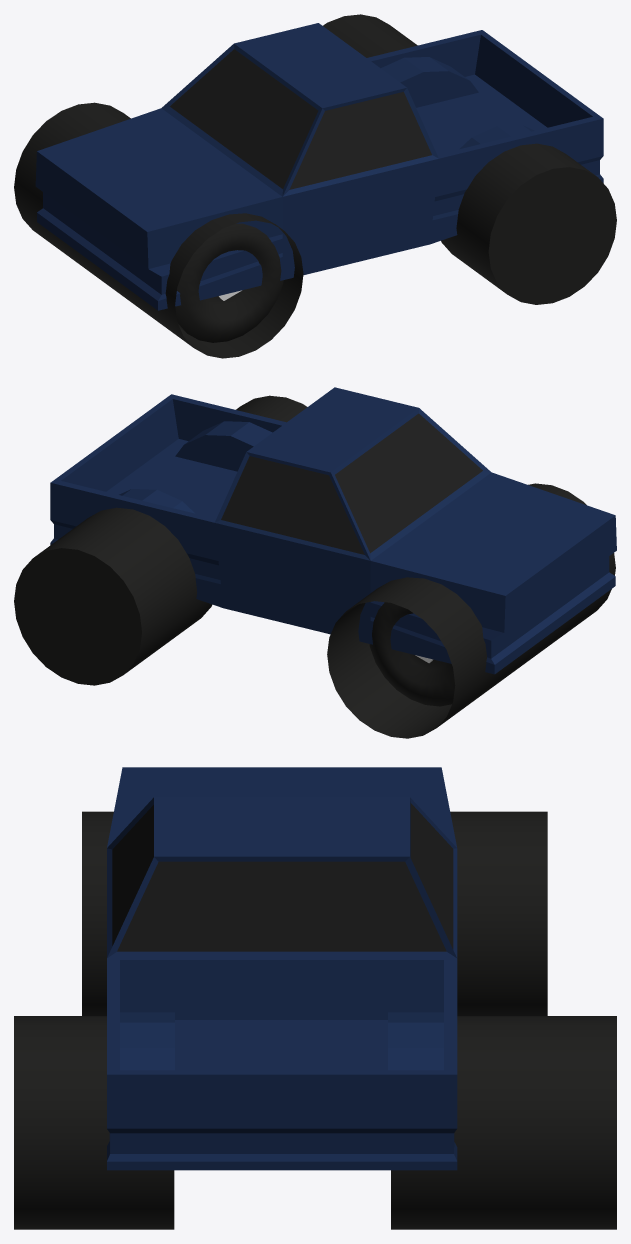
Rendered from car.glb.
The picture shows the model from 3 angles, top to bottom: view 1: azimuth 30°, elevation 25°; view 2: azimuth 150°, elevation 25°; view 3: azimuth 270°, elevation 25°; orthographic projection. The views are drawn at different scales.
Parts seen in each view (by area): view 1: Cube.001, Torus.007, Torus.006, Torus.004, Cylinder.004, Cylinder.005; view 2: Cube.001, Torus.007, Torus.006, Torus.005, Cylinder.005, Cylinder.004; view 3: Cube.001, Torus.007, Torus.006, Cylinder.004, Cylinder.005.
Part boxes in pixels (<box>): Cube.001: <box>35,23,603,310</box>; Torus.007: <box>323,14,616,304</box>; Torus.006: <box>14,102,303,358</box>; Torus.004: <box>175,223,283,342</box>; Cylinder.004: <box>381,57,478,107</box>; Cylinder.005: <box>459,125,534,149</box>; Cube.001: <box>50,387,616,674</box>; Torus.007: <box>14,395,307,685</box>; Torus.006: <box>327,483,615,738</box>; Torus.005: <box>369,602,455,706</box>; Cylinder.005: <box>175,421,272,471</box>; Cylinder.004: <box>119,489,194,513</box>; Cube.001: <box>107,767,457,1170</box>; Torus.007: <box>14,1016,616,1229</box>; Torus.006: <box>82,811,547,1015</box>; Cylinder.004: <box>388,1012,443,1070</box>; Cylinder.005: <box>120,1012,174,1070</box>.
Size of the model in its own units: 0.2204 by 0.0952 by 0.1766.
